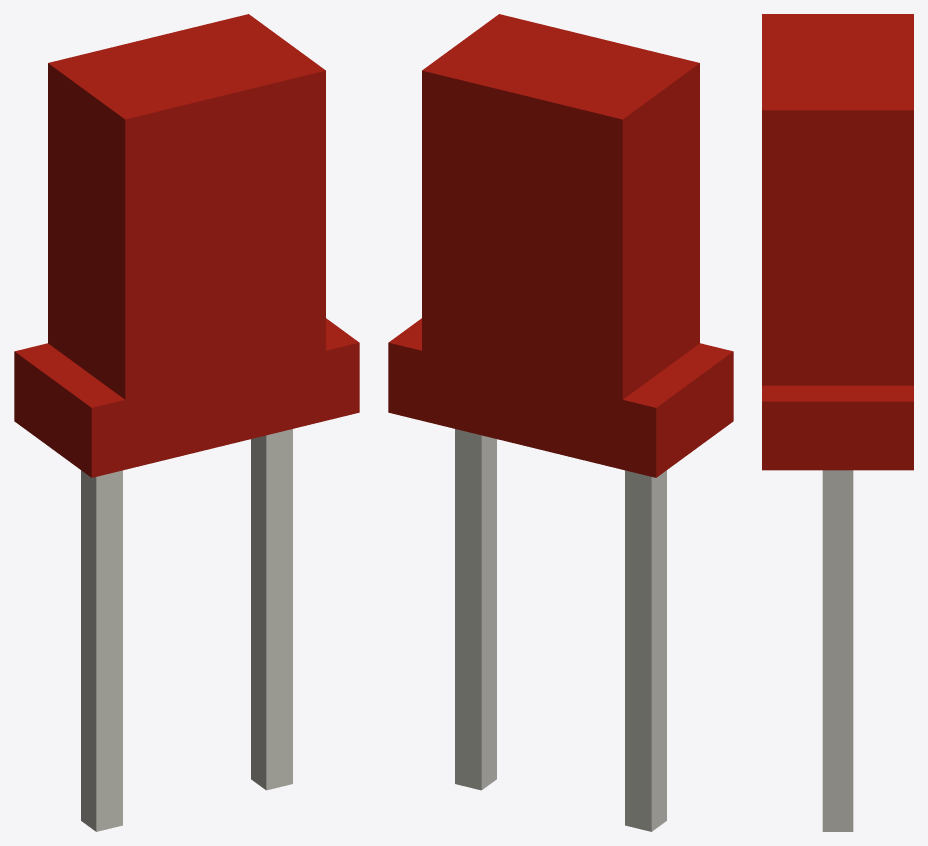
File: kc-led_rectangular_w3.0mm_h2.0mm.glb
3 views of the same model, side by side, from view 1: azimuth 30°, elevation 25°; view 2: azimuth 150°, elevation 25°; view 3: azimuth 270°, elevation 25° (orthographic).
Parts seen in each view (by area): view 1: 0.4166666666666667_0_0_0, 0.6666666666666666_0.6666666666666666_0.5833333333333334_0.8; view 2: 0.4166666666666667_0_0_0, 0.6666666666666666_0.6666666666666666_0.5833333333333334_0.8; view 3: 0.4166666666666667_0_0_0, 0.6666666666666666_0.6666666666666666_0.5833333333333334_0.8.
Part boxes in pixels (box(x1,y1,x2,y2)): 0.4166666666666667_0_0_0: box(14, 14, 359, 477); 0.6666666666666666_0.6666666666666666_0.5833333333333334_0.8: box(81, 429, 292, 831); 0.4166666666666667_0_0_0: box(388, 14, 733, 477); 0.6666666666666666_0.6666666666666666_0.5833333333333334_0.8: box(455, 429, 666, 831); 0.4166666666666667_0_0_0: box(762, 14, 913, 470); 0.6666666666666666_0.6666666666666666_0.5833333333333334_0.8: box(822, 470, 853, 831).
Bounding box in the file's own units: 0.4 × 1.05 × 0.2.
